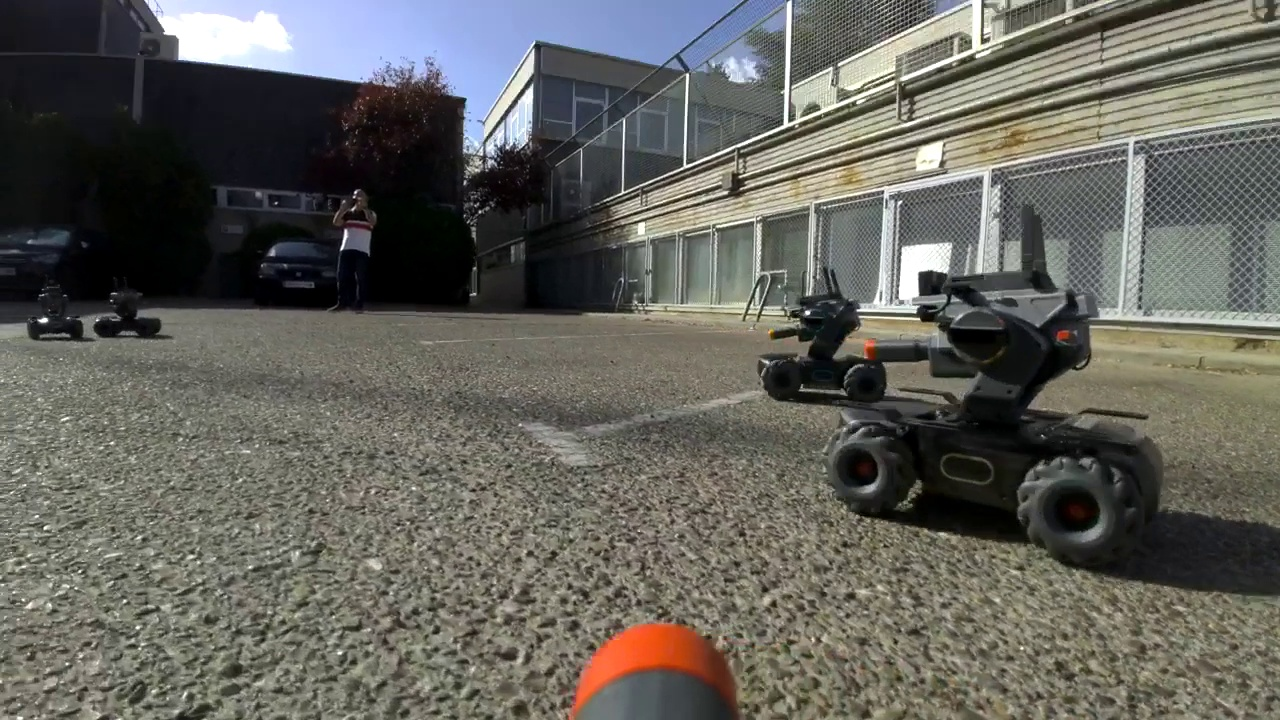robot: (820, 200, 1164, 567), (756, 264, 889, 403), (94, 274, 162, 337), (26, 276, 84, 341)
